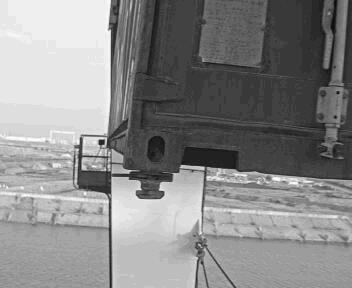twist_lock_1: (126, 168, 175, 206)
